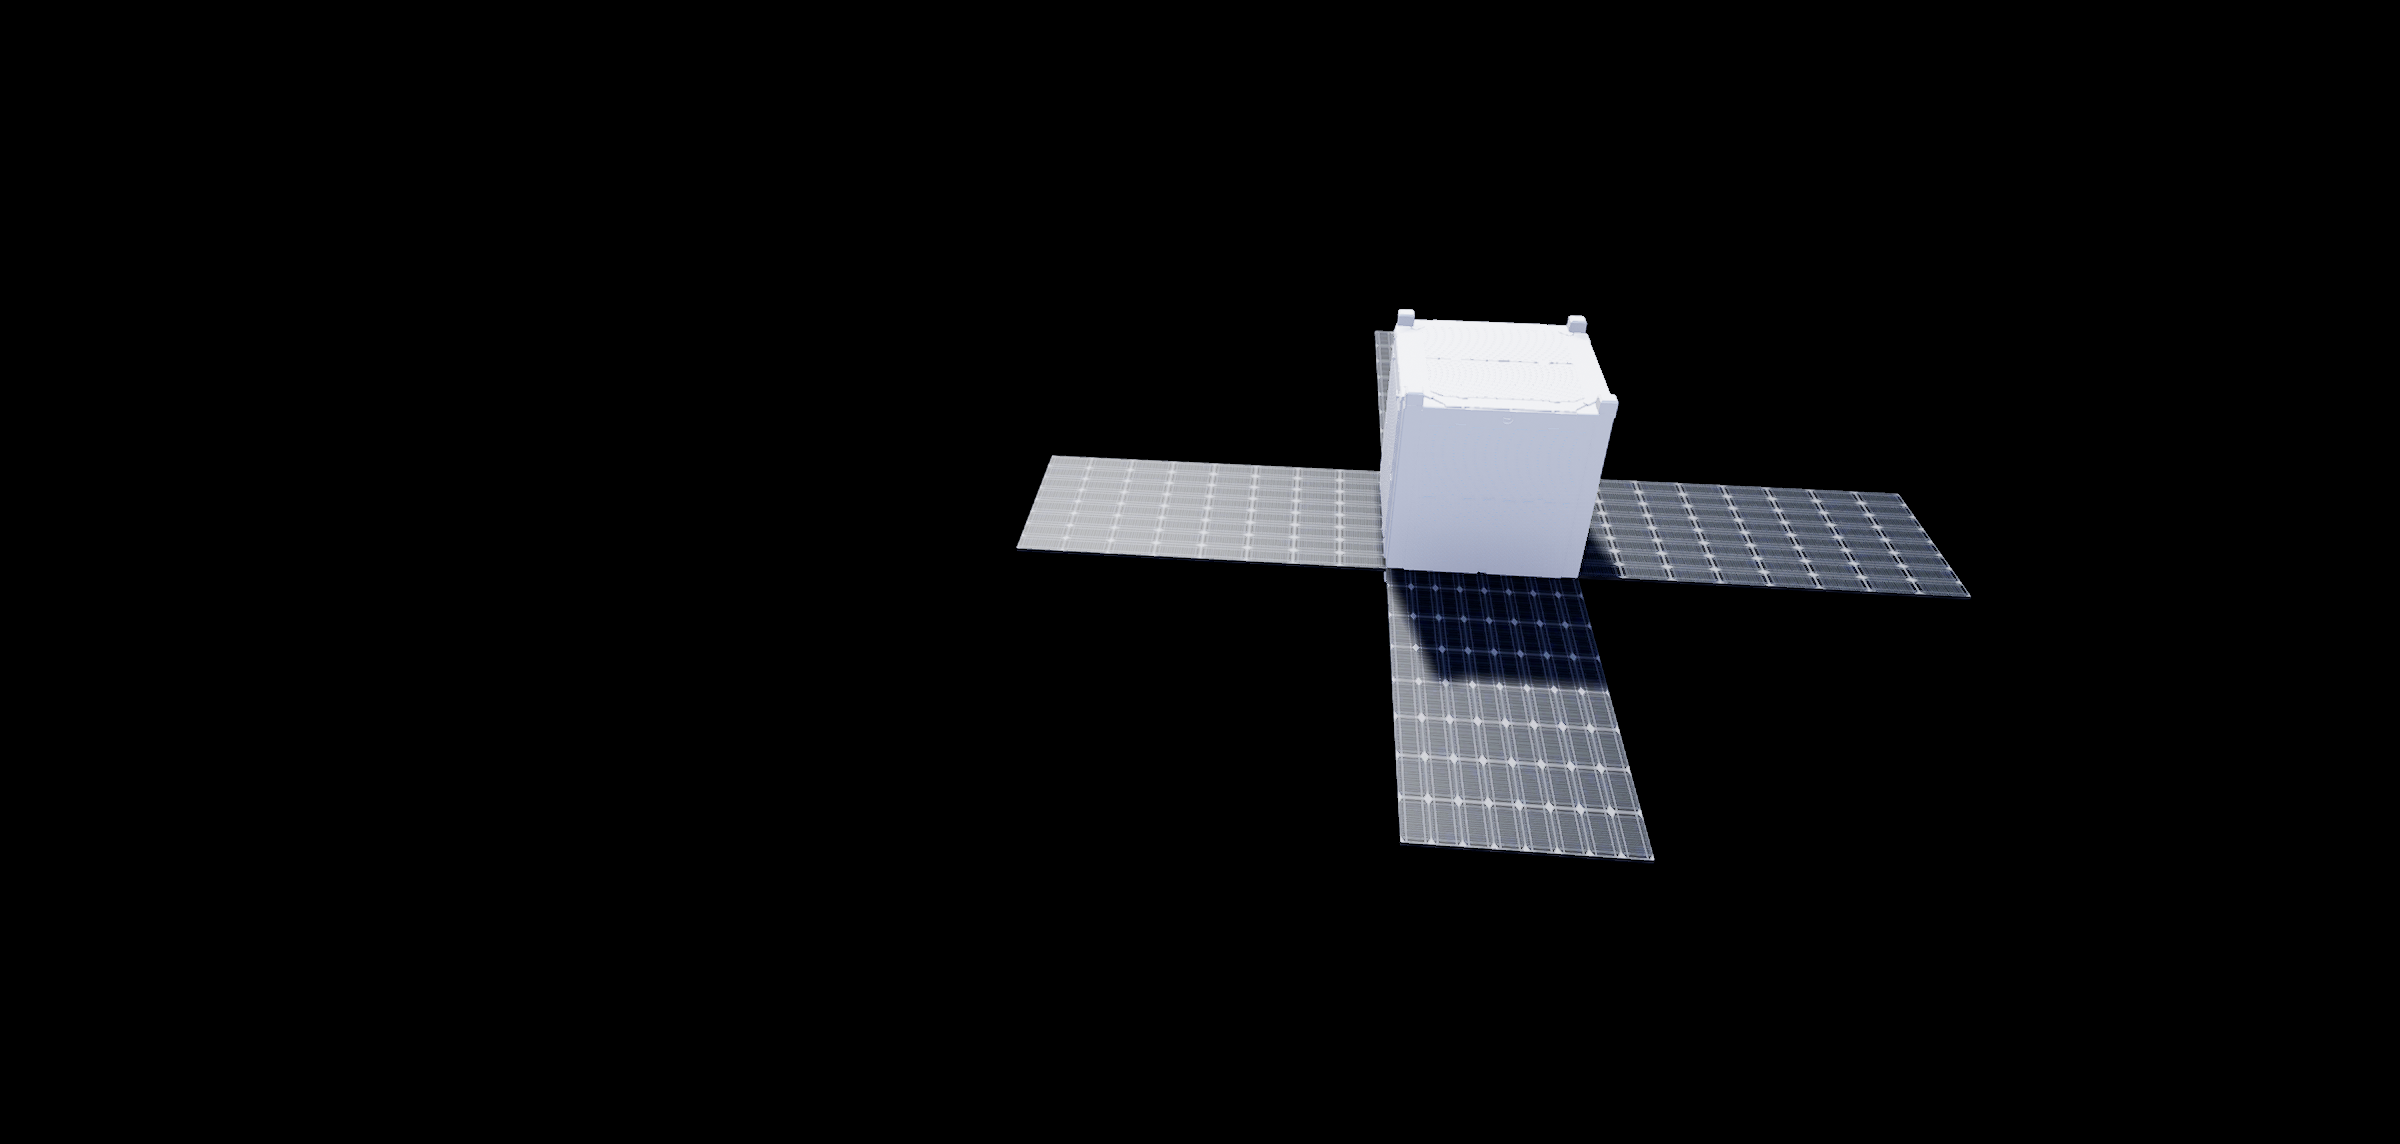satellite: (934, 240, 2037, 946)
